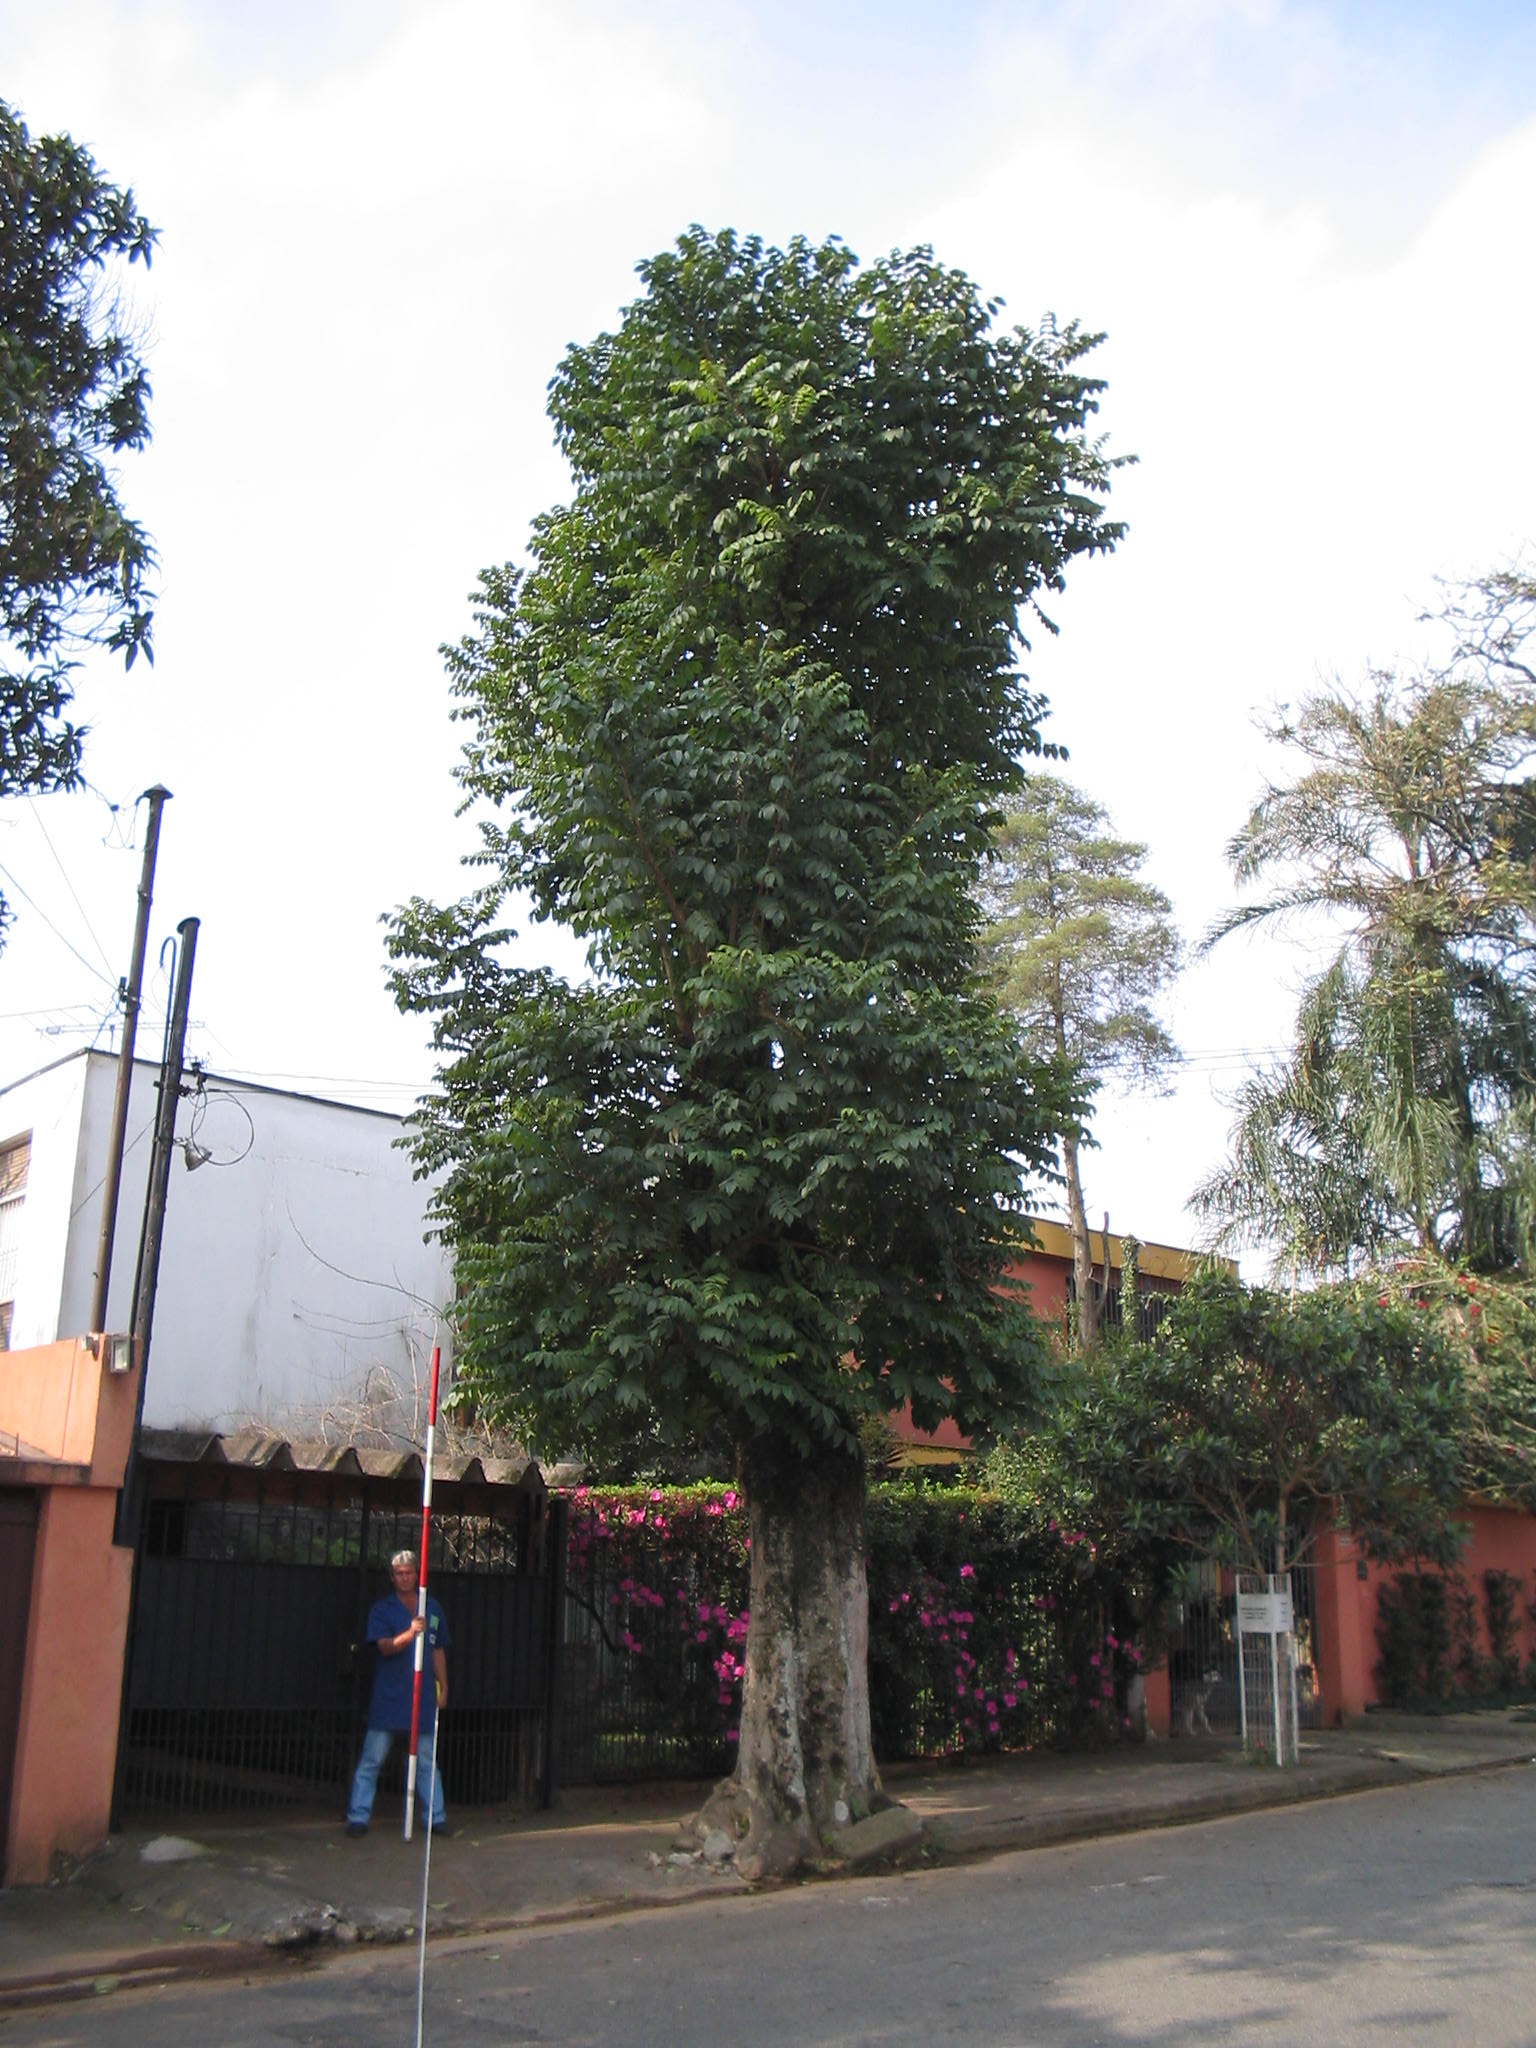crown: (382, 216, 1136, 1526)
stem: (678, 1487, 916, 1867)
stick: (366, 1350, 466, 1842)
tree: (374, 211, 1141, 1875)
